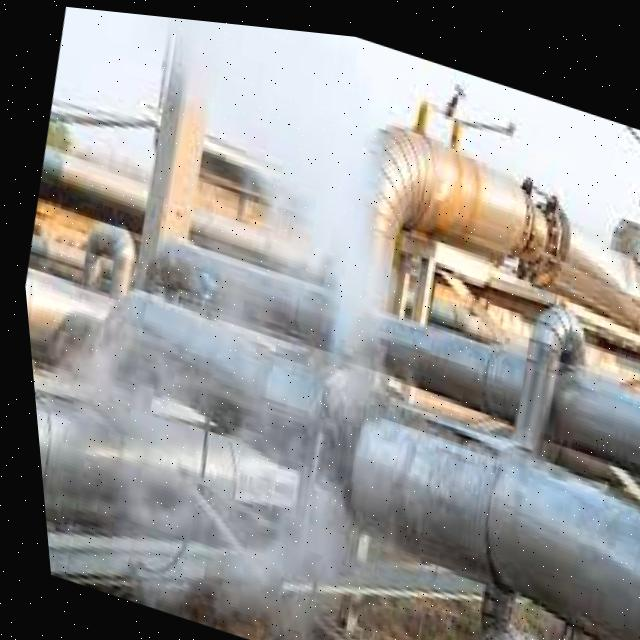corrosion: (204, 131, 485, 560)
